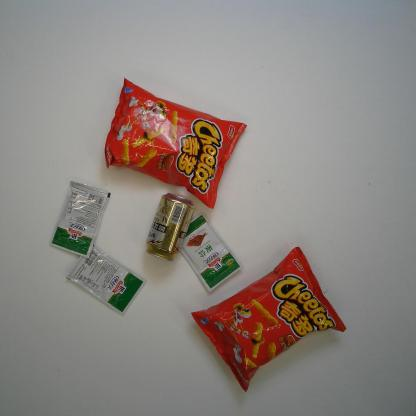Alcohol: (145, 192, 196, 262)
Puffed Food: (190, 245, 347, 394), (104, 77, 248, 209)
Seasoner: (65, 246, 148, 316), (178, 212, 242, 293), (49, 179, 111, 260)
